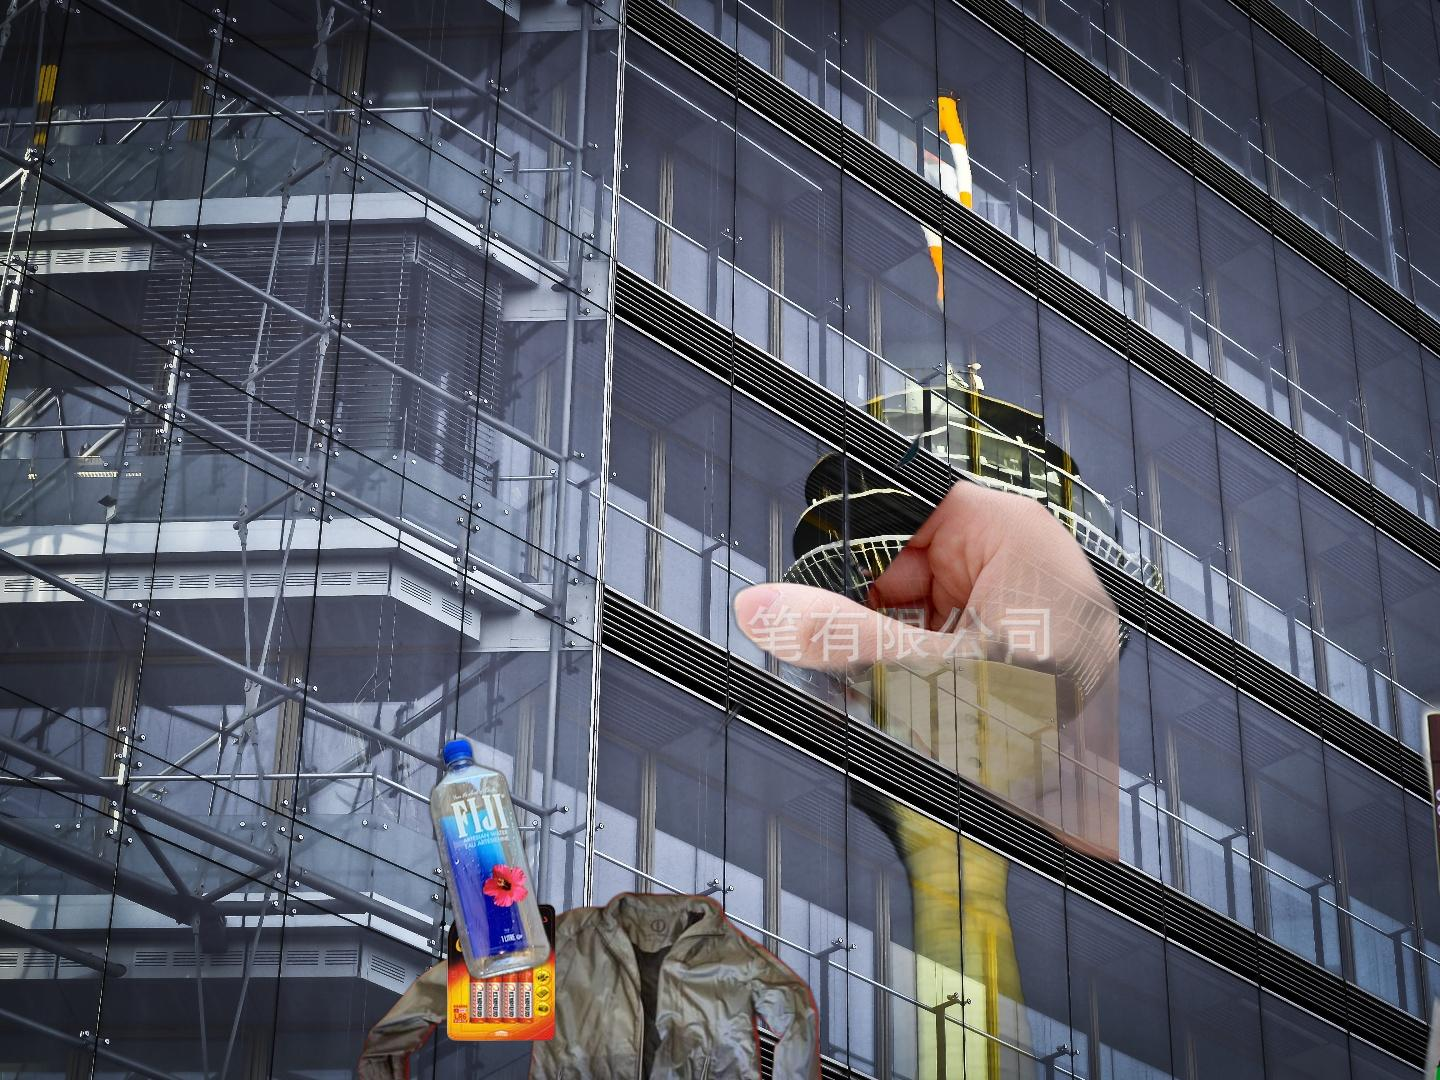battery: (444, 901, 558, 1044)
clothes: (354, 888, 852, 1080)
penholder: (465, 351, 1119, 900), (1267, 683, 1440, 1080)
plastic-bottles: (425, 732, 557, 986)
